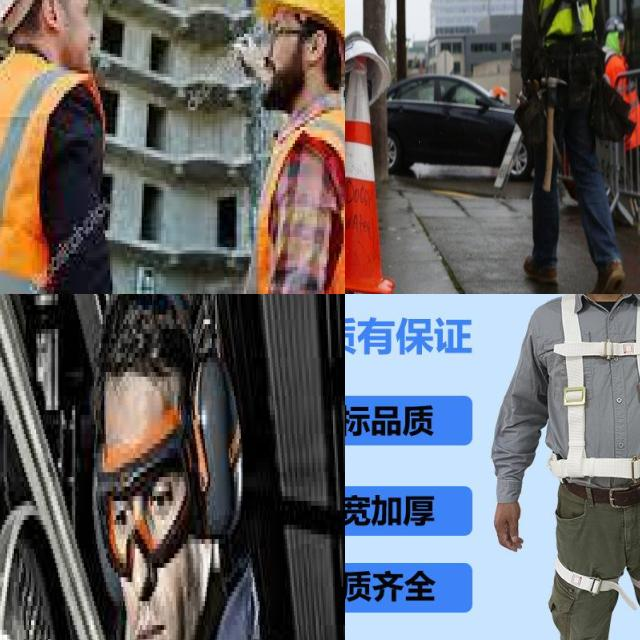Ear-protection: (81, 294, 251, 573)
Harness: (547, 294, 640, 514)
face_nomask: (254, 14, 312, 107), (37, 0, 105, 77)
hand_glove: (229, 30, 271, 94)
head_helmet: (263, 0, 345, 50)
person: (0, 0, 117, 294), (229, 0, 345, 294), (524, 0, 617, 289)
shoes: (522, 243, 562, 293), (583, 252, 627, 294)
vest: (0, 70, 85, 294), (244, 113, 345, 294), (606, 60, 640, 140), (530, 0, 597, 30)
